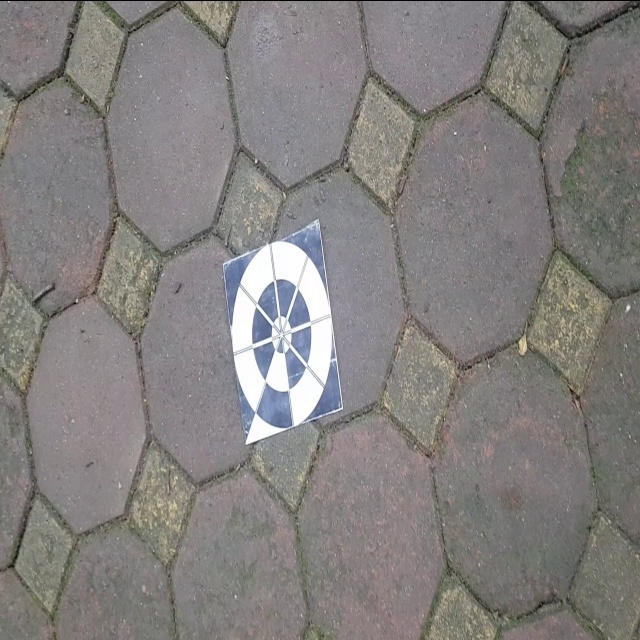landing-zone: (221, 217, 348, 451)
